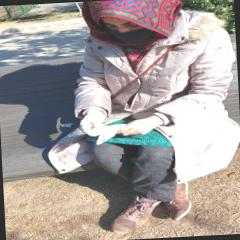gloved: (77, 110, 108, 138)
not-gloved: (120, 115, 164, 138)
